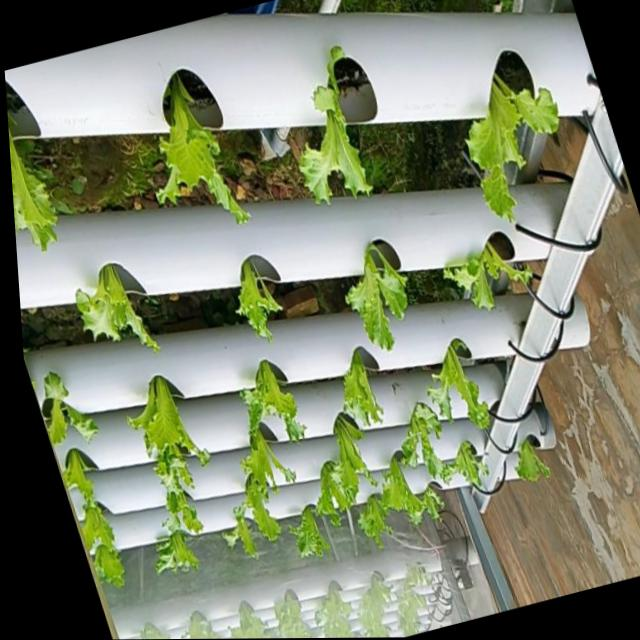Baby: (472, 75, 567, 223), (160, 75, 253, 225), (304, 47, 377, 203), (7, 100, 60, 250), (80, 264, 162, 352), (350, 246, 412, 354), (450, 247, 543, 316), (238, 423, 299, 521), (270, 478, 337, 564), (432, 341, 495, 432), (324, 412, 381, 510), (136, 375, 202, 455), (386, 456, 447, 526), (148, 433, 198, 517), (45, 371, 102, 444), (257, 360, 307, 441), (405, 403, 456, 482), (240, 261, 285, 343), (82, 500, 126, 578), (347, 350, 388, 427), (221, 501, 268, 557), (446, 441, 494, 493), (360, 493, 397, 548), (158, 528, 201, 571), (519, 445, 557, 486)
